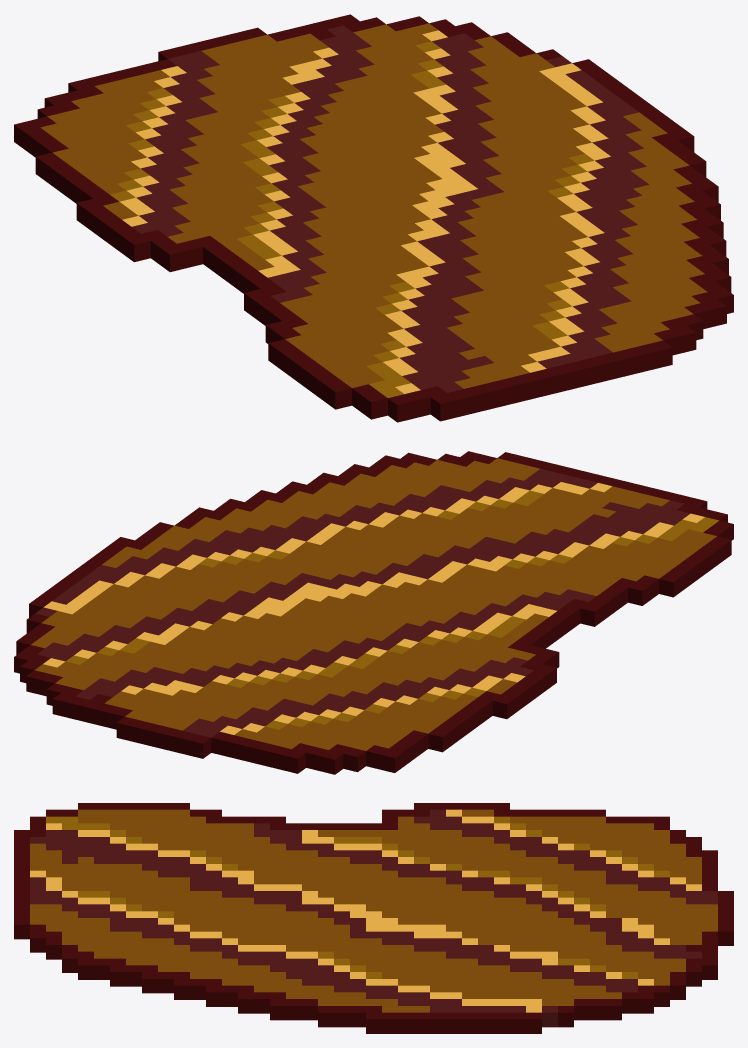
Rendered from steak.obj.
The picture shows the model from 3 angles, top to bottom: view 1: azimuth 30°, elevation 25°; view 2: azimuth 150°, elevation 25°; view 3: azimuth 270°, elevation 25°; orthographic projection. The views are drawn at different scales.
Parts seen in each view (by area): view 1: steak; view 2: steak; view 3: steak.
Boxes of the visible parts, x1,y1,x2,y2 form: steak: (14,14,733,422); steak: (14,451,733,774); steak: (14,803,733,1033).
Size of the model in its own units: 32 by 1 by 45.
1 material, 1 textured.
